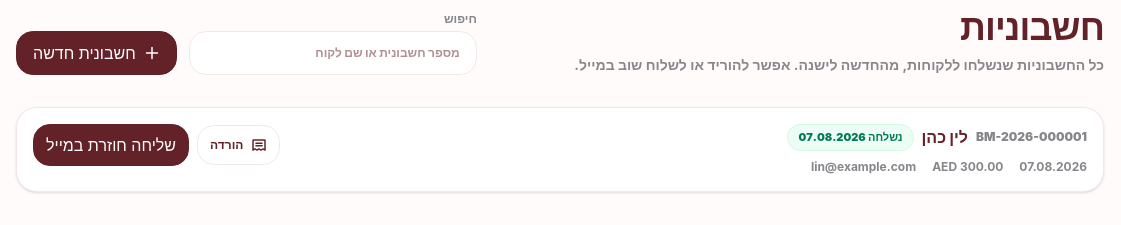
Test case: InvoicesScreen › keeps the invoice untouched and explains when the resend fails
Click the button with aria-label "שליחה חוזרת של חשבונית BM-2026-000001" at (111, 145), box [33, 124, 189, 166]
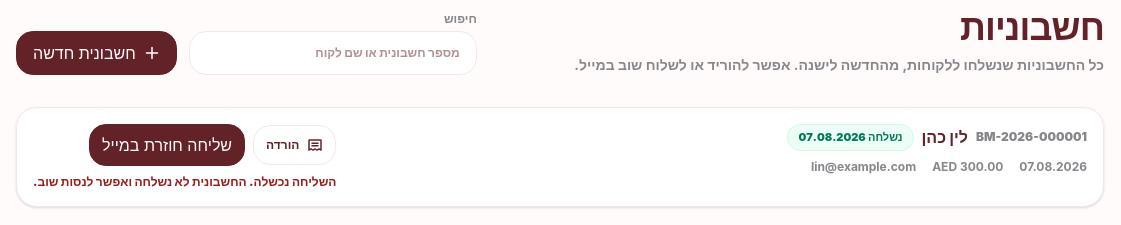
Expected: the message reads "השליחה נכשלה. החשבונית לא נשלחה ואפשר לנסות שוב.", [33, 174, 336, 189]
